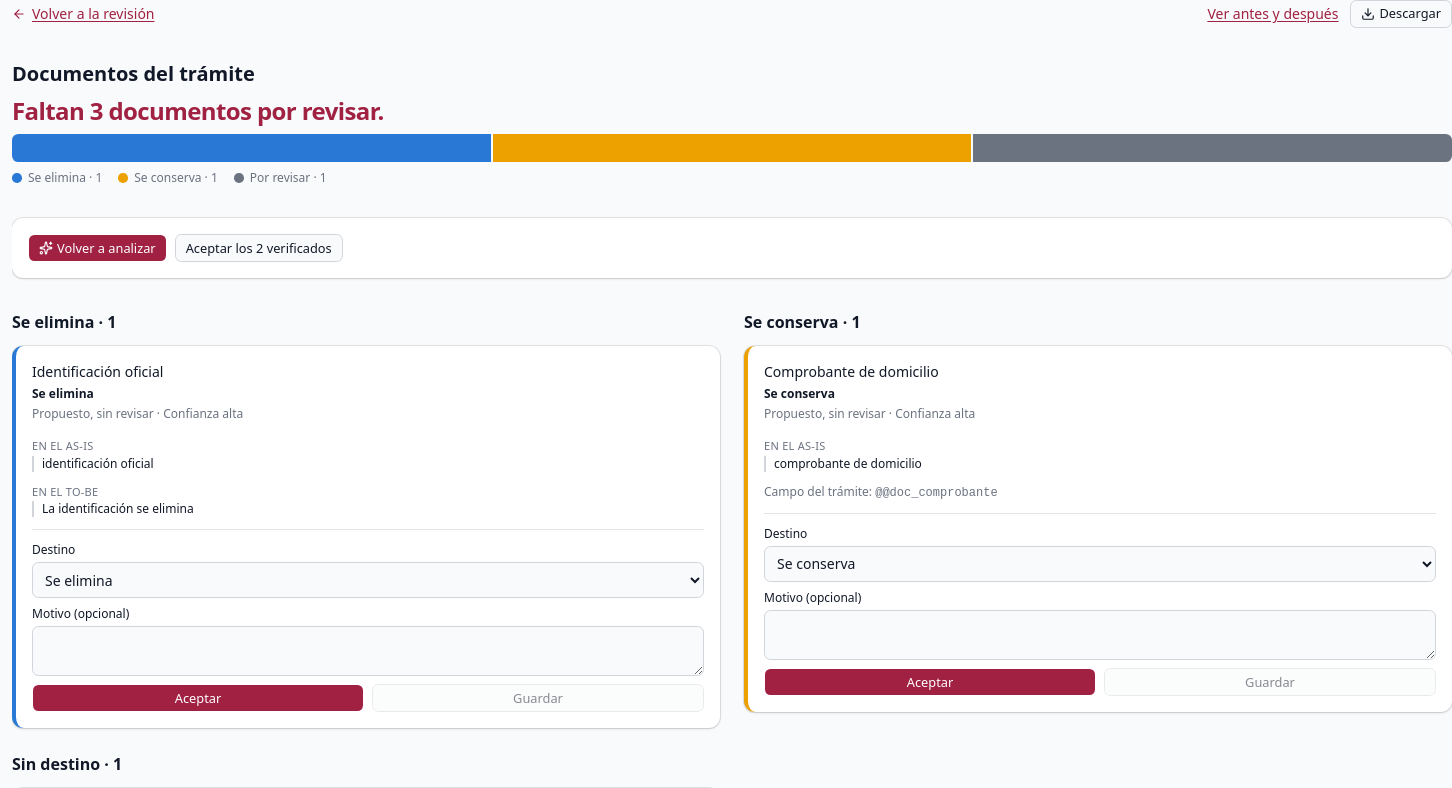
decidir una tarjeta actualiza la página con lo que devuelve el servidor
The width and height of the screenshot is (1452, 788).
Click the button "Aceptar" below "La identificación se elimina": (198, 698) [32,684,364,712]
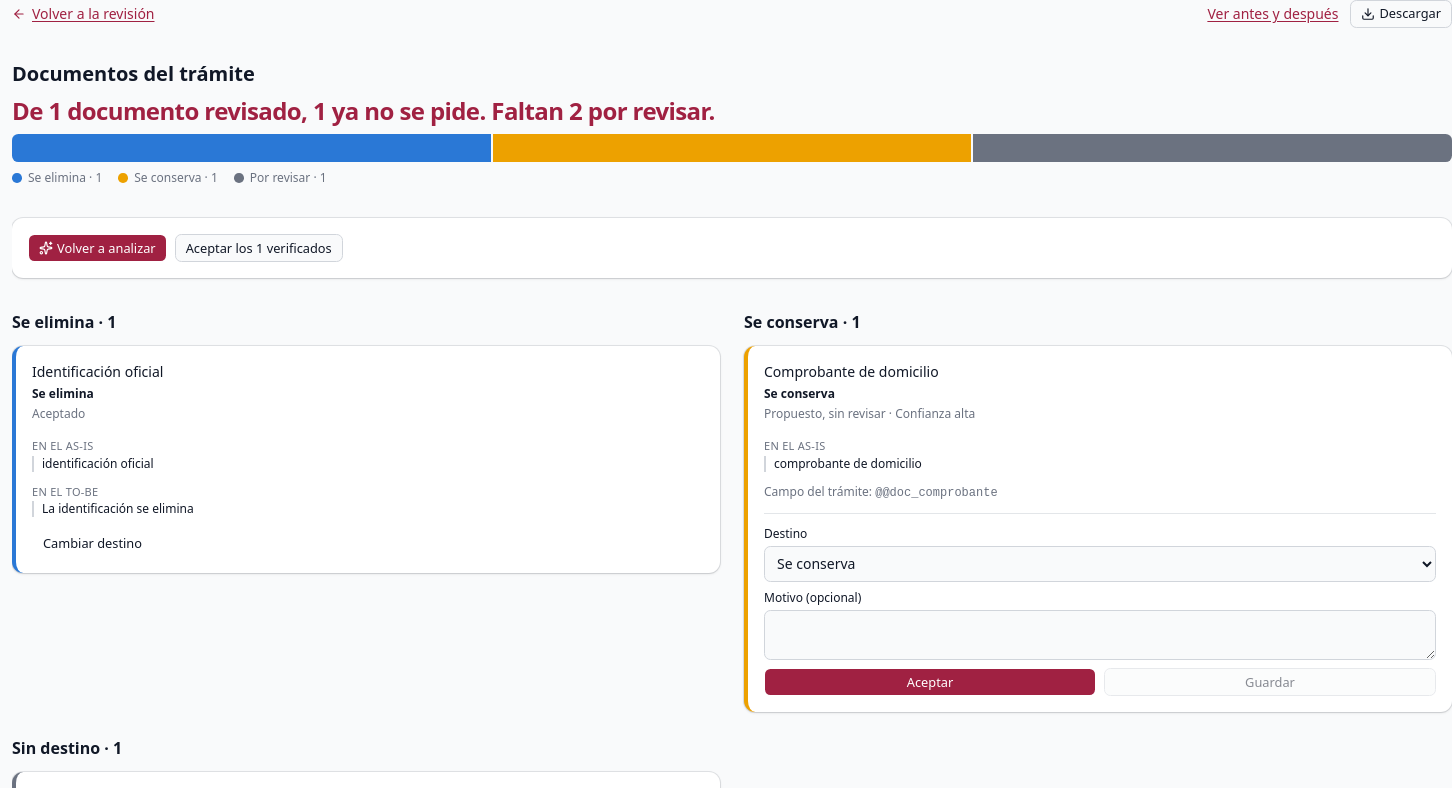
Now the text "De 1 documento revisado, 1 ya no se pide" is shown, box [12,94,715,127]
